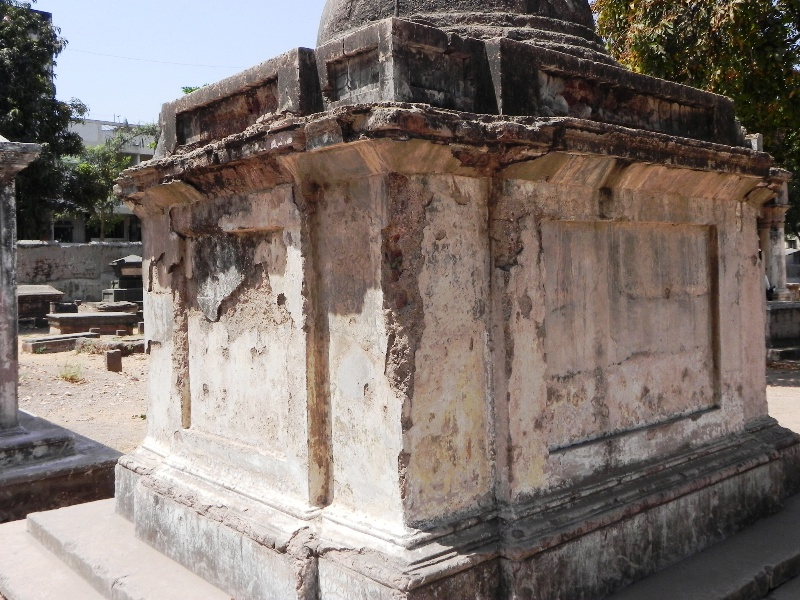Spalling: (372, 173, 428, 411), (207, 261, 299, 341), (479, 175, 547, 269), (144, 251, 191, 305), (171, 309, 189, 401)
